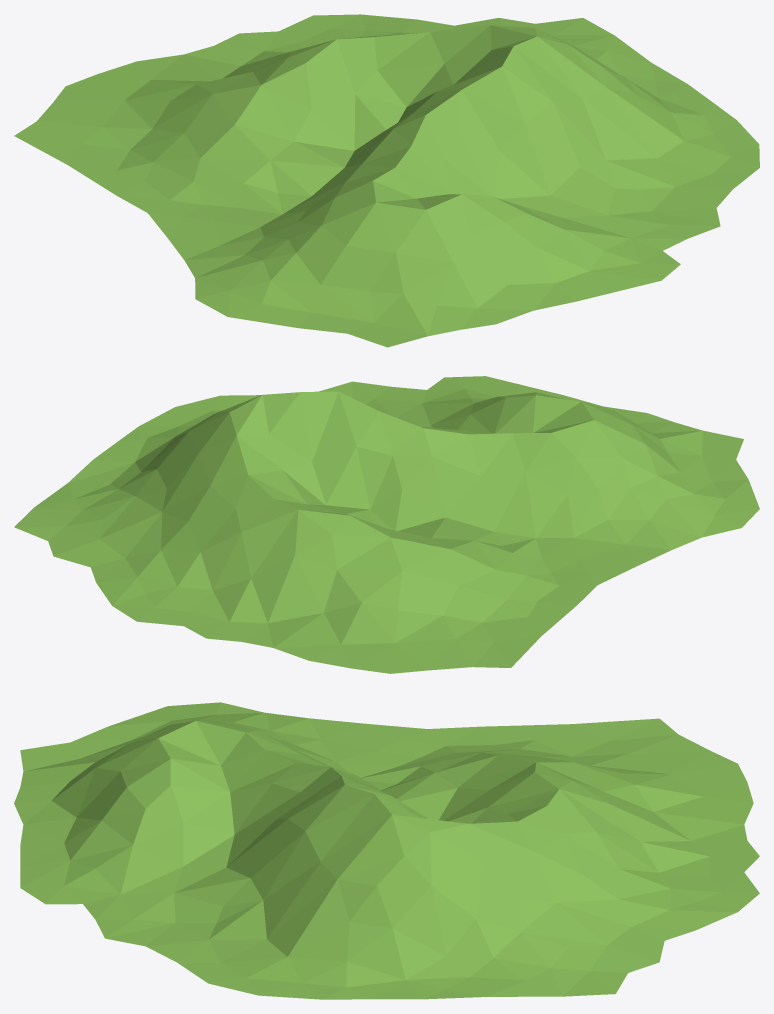
The model's file is MT_Mountain_M_a_16.fbx.
The picture shows the model from 3 angles, top to bottom: view 1: azimuth 30°, elevation 25°; view 2: azimuth 150°, elevation 25°; view 3: azimuth 270°, elevation 25°; orthographic projection. The views are drawn at different scales.
Visible parts, largest first — view 1: MT_Mountain_M_a_16; view 2: MT_Mountain_M_a_16; view 3: MT_Mountain_M_a_16.
Part boxes in pixels (x1,y1,x2,y2): MT_Mountain_M_a_16: (14,14,759,347); MT_Mountain_M_a_16: (14,376,759,673); MT_Mountain_M_a_16: (14,702,759,999).
Size of the model in its own units: 4375 by 744 by 4648.
